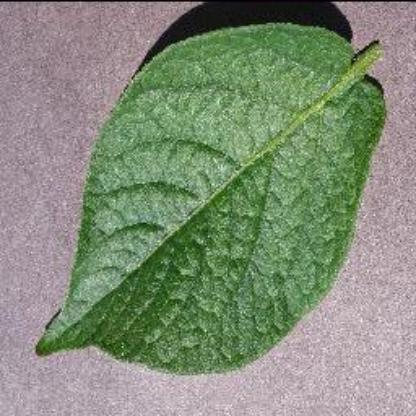Healthy-plant: (34, 19, 398, 382)
